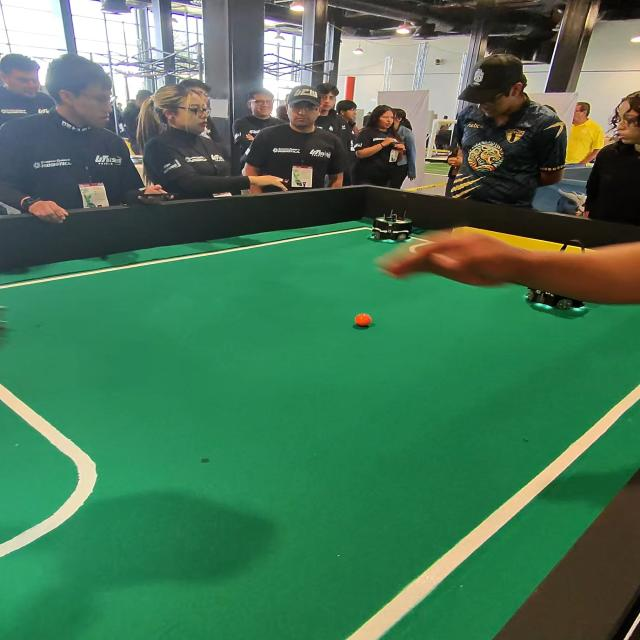Robot: (510, 287, 594, 317), (367, 206, 412, 238)
pelota: (349, 311, 378, 328)
